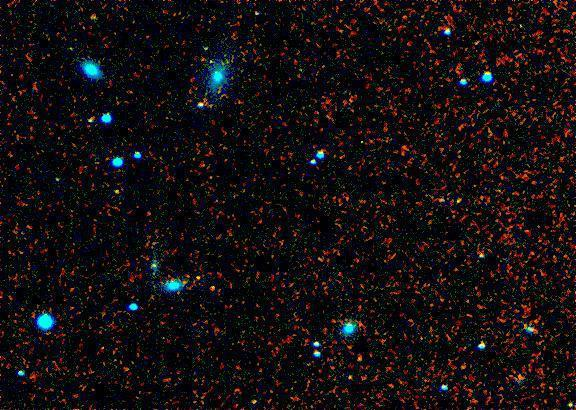star: (334, 360, 364, 390)
